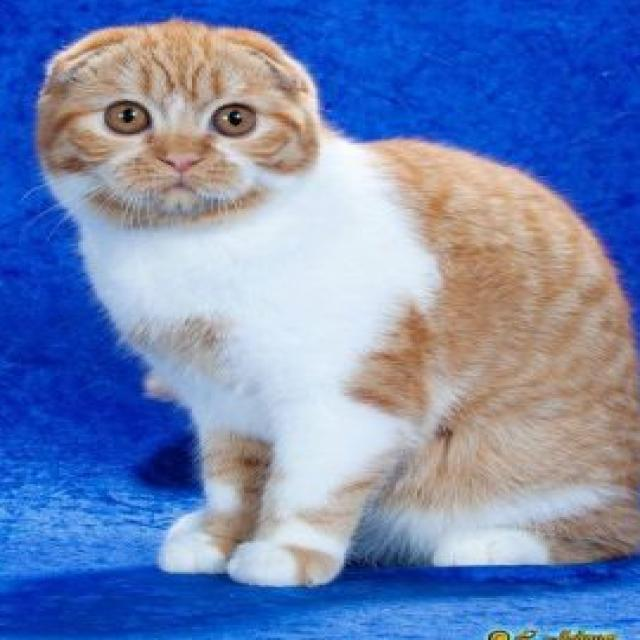Scottish Fold: (26, 15, 640, 598)
